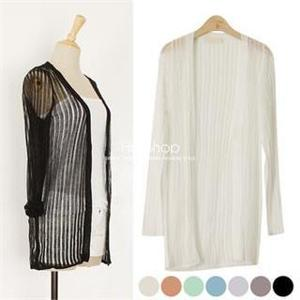C_cardigan sweater: (151, 32, 285, 271), (12, 62, 133, 272)
